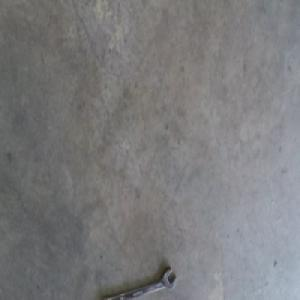Wrench: (104, 267, 175, 299)
